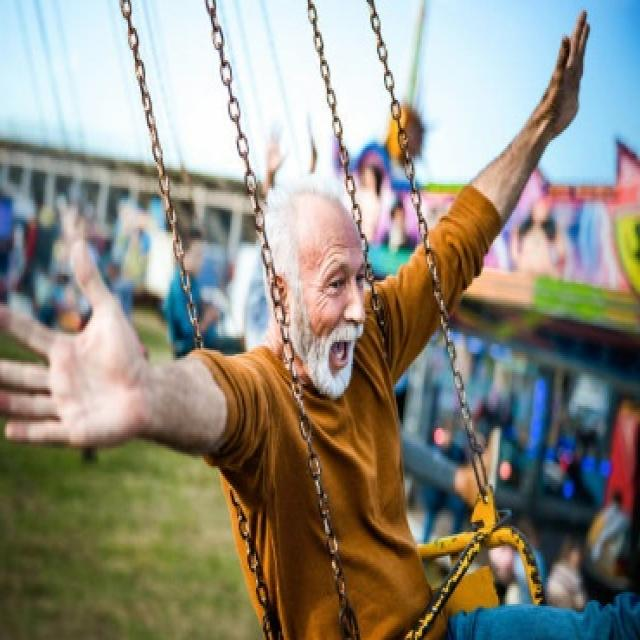adult: (6, 6, 591, 640)
